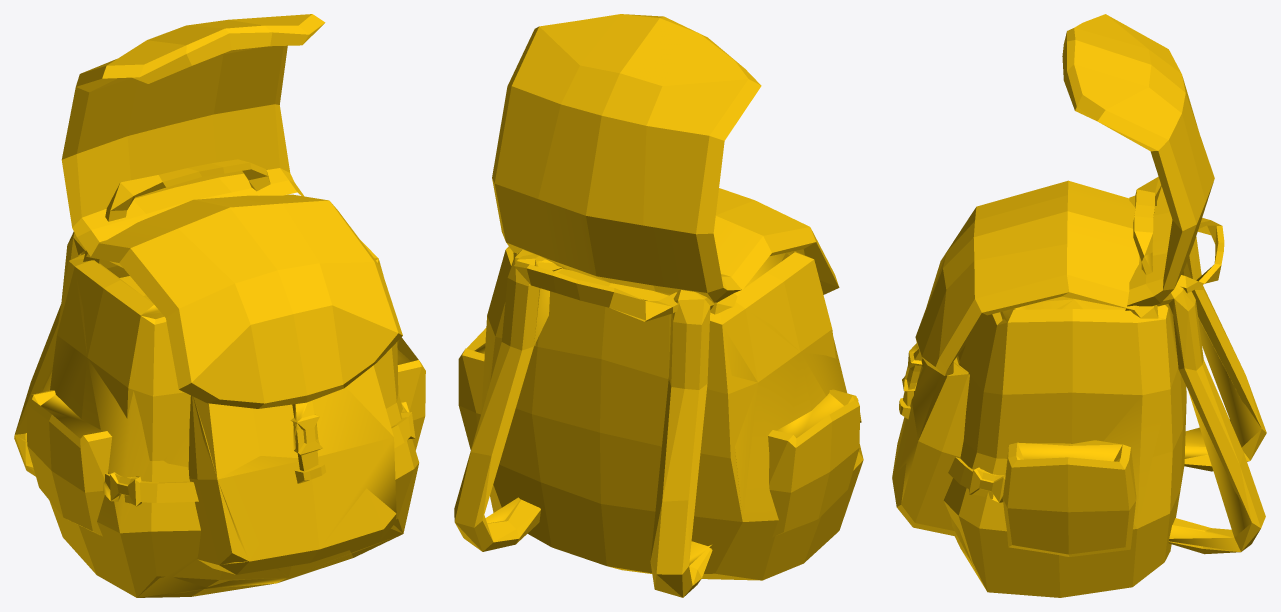
File: item_backpack_gold.glb
3 renders of one model, left to right at view 1: azimuth 30°, elevation 25°; view 2: azimuth 150°, elevation 25°; view 3: azimuth 270°, elevation 25°, orthographic. The views are drawn at different scales.
Visible parts, largest first — view 1: Lid (×2), Backpack; view 2: Backpack, Lid (×2); view 3: Backpack, Lid (×2).
Part boxes in pixels (x1,y1,x2,y2): Lid (×2): (61,14,402,408); Backpack: (14,231,425,597); Backpack: (454,246,863,597); Lid (×2): (492,14,839,321); Backpack: (892,236,1266,597); Lid (×2): (915,14,1224,375).
Bounding box in the file's own units: 0.4855 × 0.6967 × 0.4674.
